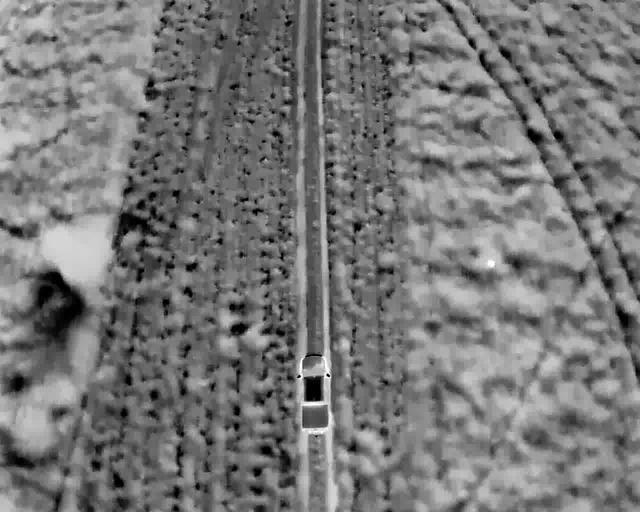car: (296, 355, 331, 432)
